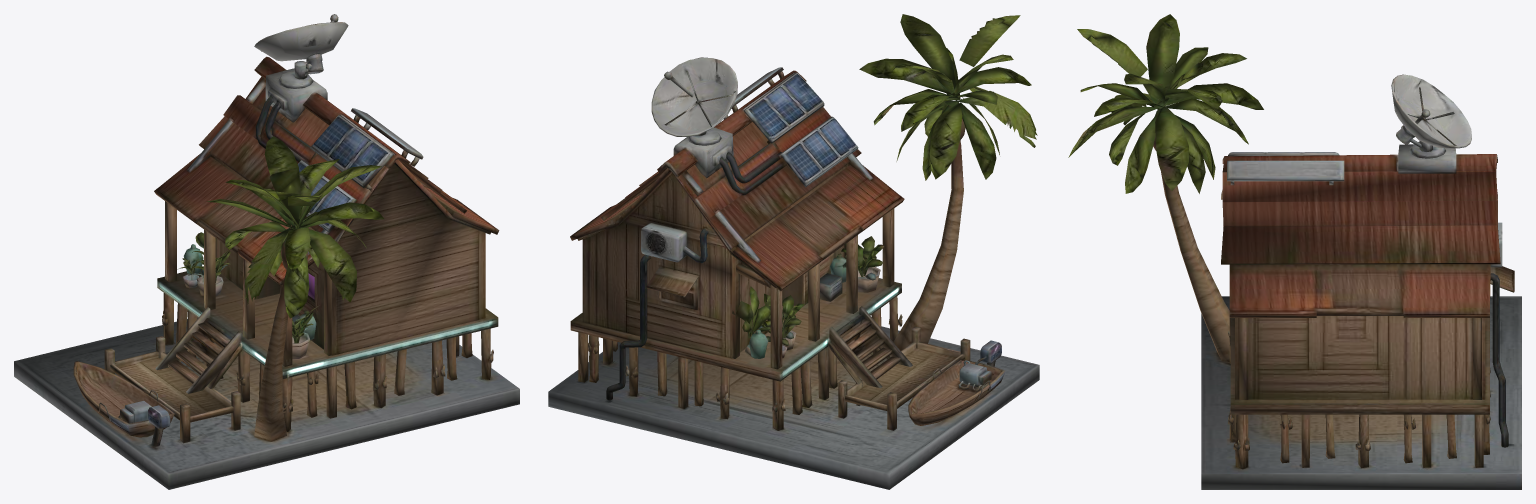
File: mekong_stilt_house.glb
The picture shows the model from 3 angles, left to right: view 1: azimuth 30°, elevation 25°; view 2: azimuth 150°, elevation 25°; view 3: azimuth 270°, elevation 25°; orthographic projection. The views are drawn at different scales.
Parts seen in each view (by area): view 1: Body; view 2: Body; view 3: Body.
Part boxes in pixels (x1,y1,x2,y2): Body: (14,14,519,489); Body: (548,14,1039,489); Body: (1068,14,1521,489).
Size of the model in its own units: 10 by 9.09 by 10.62.
1 material, 1 textured.
